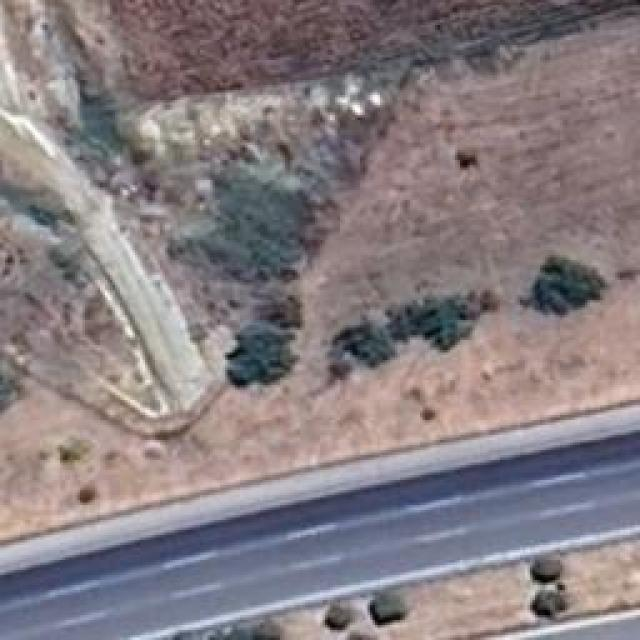Tree: (533, 253, 613, 319), (385, 295, 481, 350), (325, 320, 390, 378), (228, 327, 291, 384), (530, 548, 567, 585), (368, 588, 407, 622), (320, 603, 352, 631), (532, 590, 565, 617), (250, 617, 281, 640)
